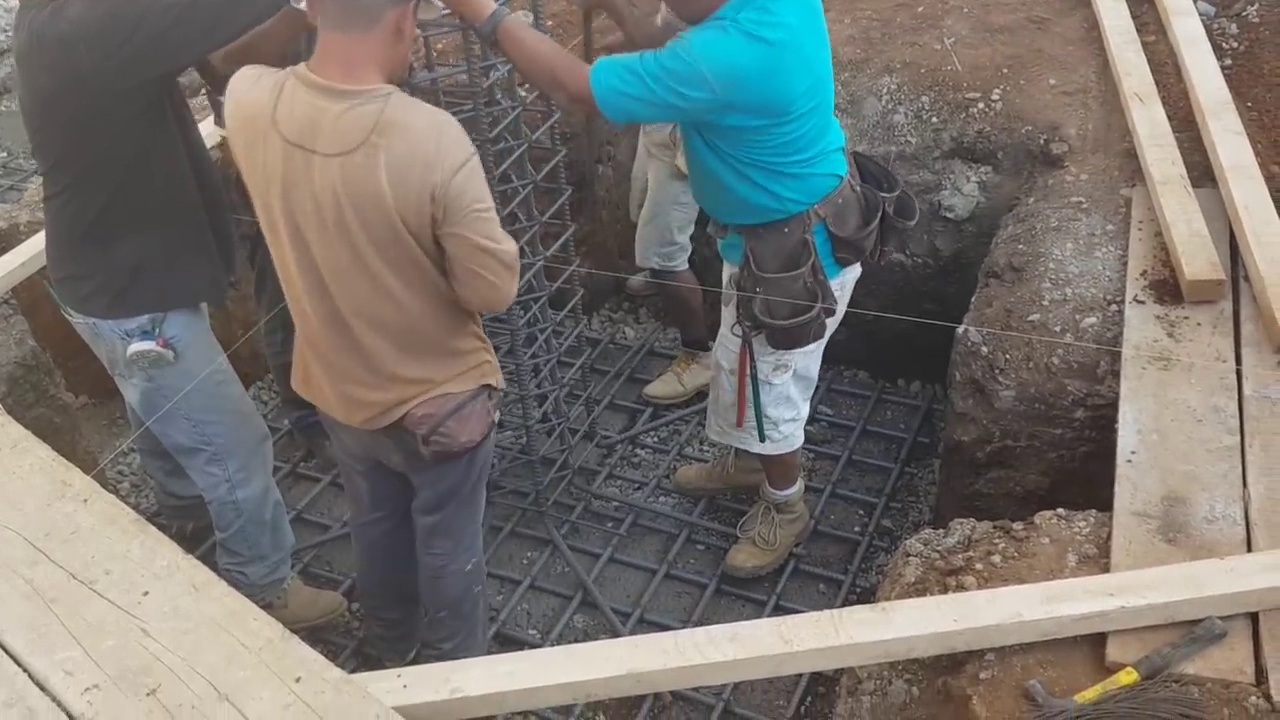person: (443, 0, 857, 580), (6, 0, 348, 620), (225, 0, 515, 658), (602, 106, 724, 410)
